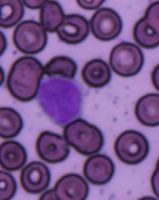L: (36, 76, 84, 126)
